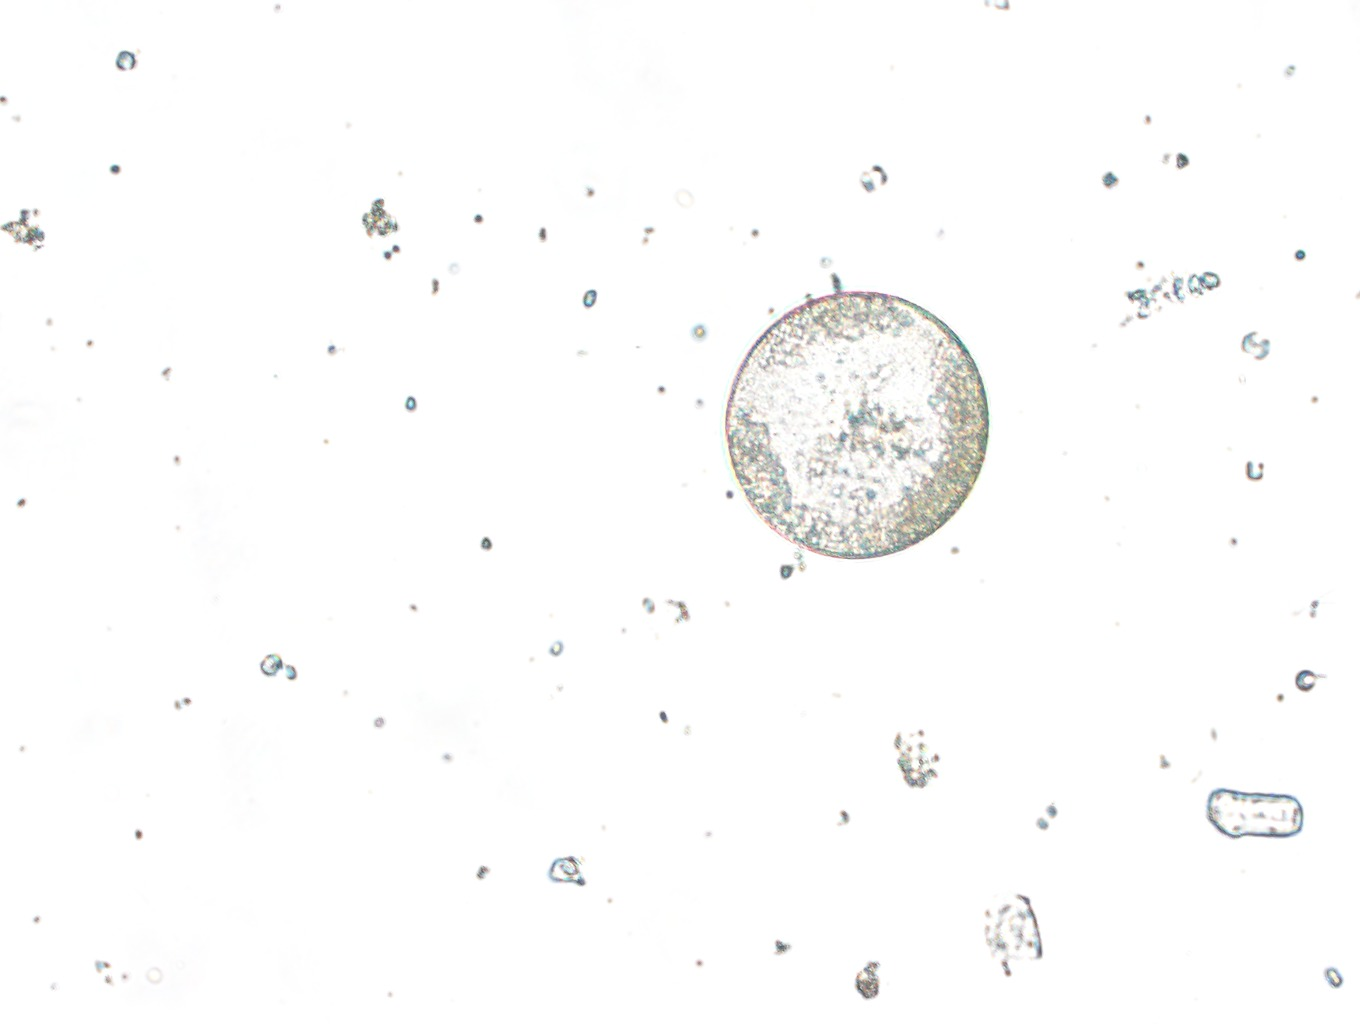coscinodiscus: (718, 291, 997, 565)
